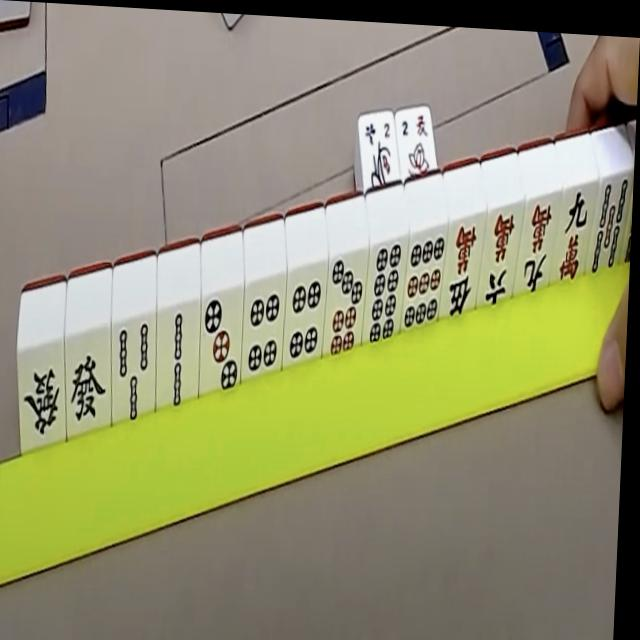f2: (361, 113, 399, 191)
fa: (17, 349, 70, 451), (63, 336, 114, 438)
ff2: (395, 106, 439, 181)
m5: (444, 218, 486, 322)
m6: (478, 204, 523, 307)
m9: (516, 196, 562, 299), (554, 183, 598, 287)
s2: (156, 306, 203, 414)
s3: (109, 317, 158, 428)
s5: (587, 173, 632, 277)
t3: (201, 291, 245, 394)
t4: (243, 280, 288, 379), (285, 264, 328, 365)
t7: (325, 253, 367, 359)
t8: (364, 242, 406, 346)
t9: (403, 228, 446, 332)
